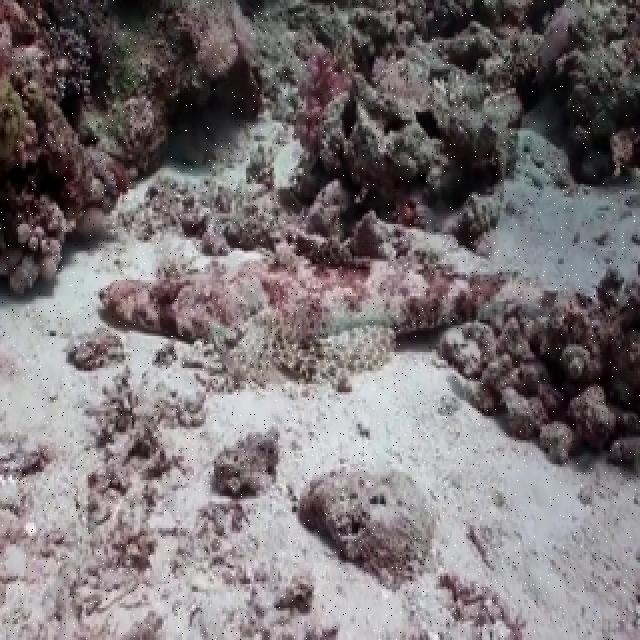fish: (212, 299, 399, 387)
sea-floor: (0, 0, 638, 468)
